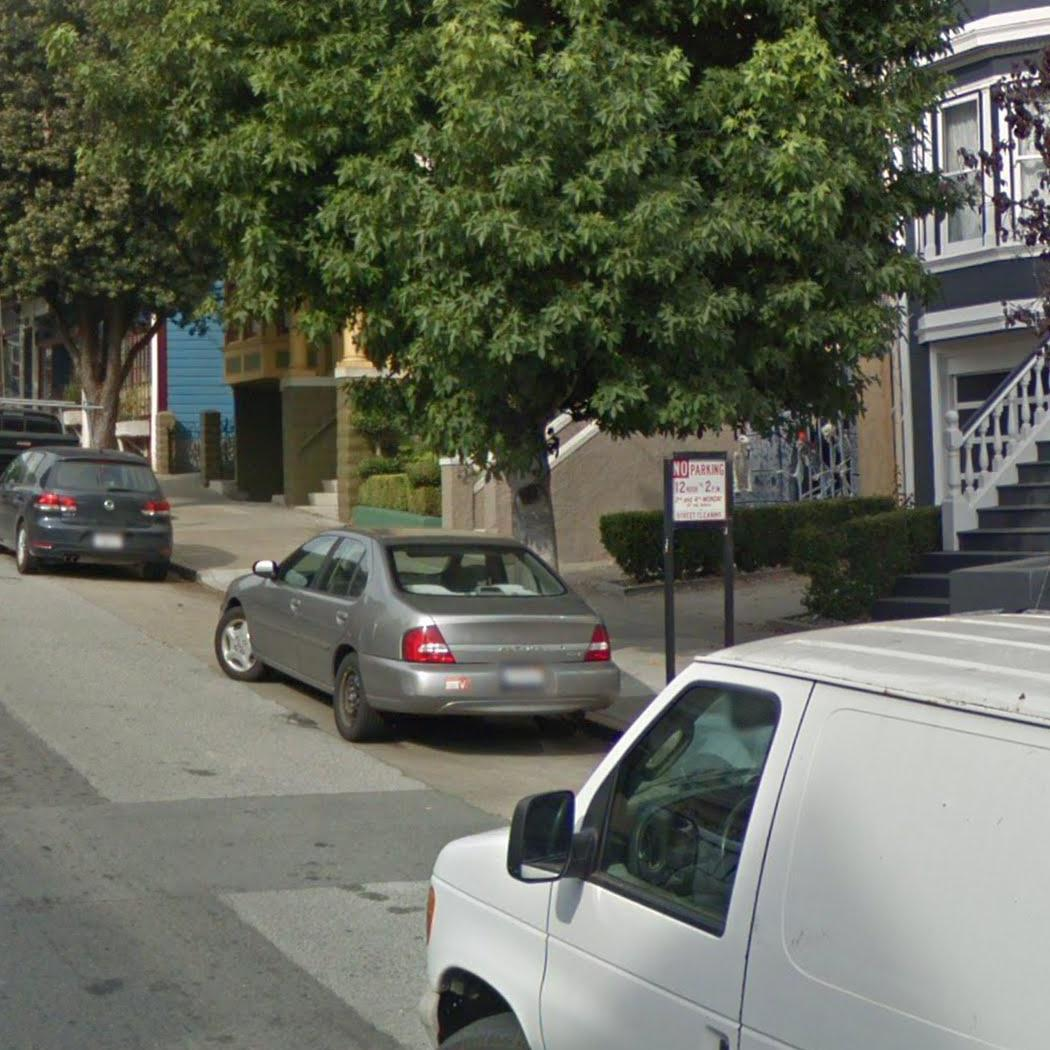No Parking: (667, 453, 732, 526)
